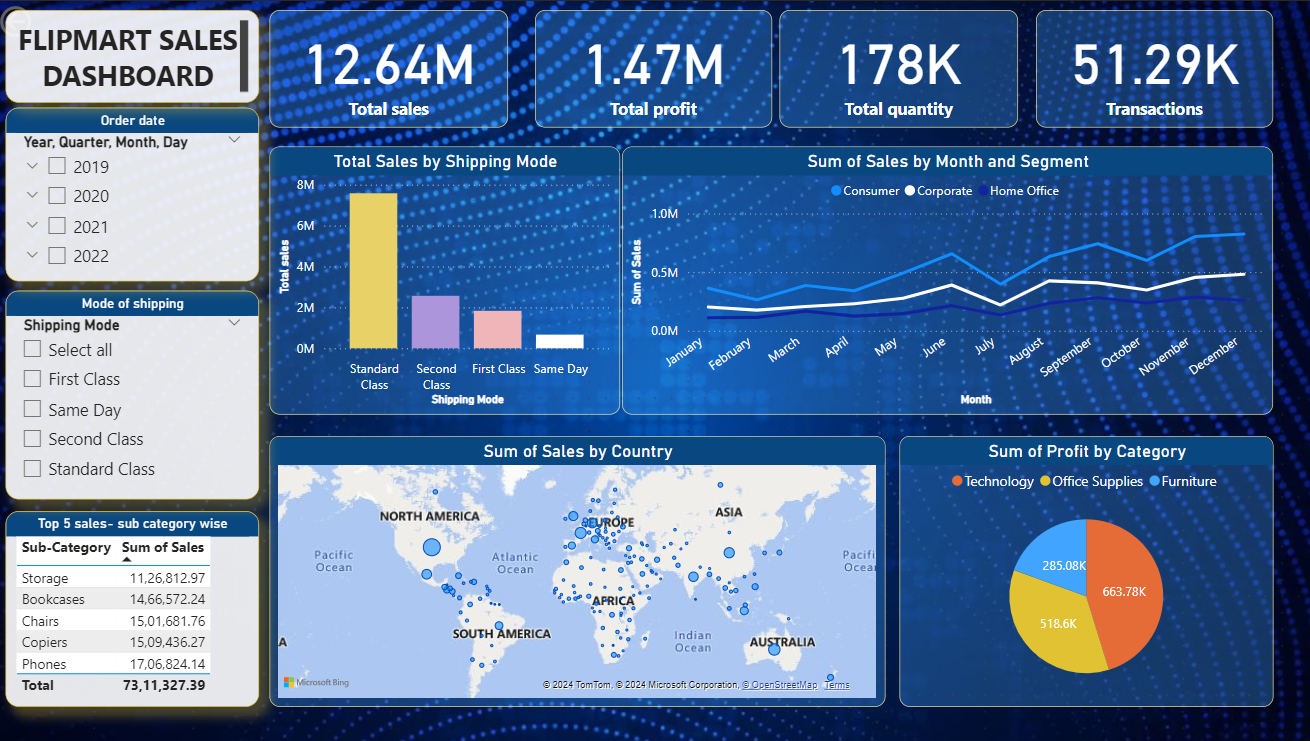

The page's visual inventory and layout, read from the dashboard file:
{"tool":"powerbi","page":{"name":"Page 1","canvas":[1280,720],"ordinal":0},"visuals":[{"type":"card","fields":{"Values":["Sum(Sales.Sales)"]},"box":[265.7,8.6,231.4,114.3],"z":0},{"type":"card","fields":{"Values":["Sum(Sales.Profit)"]},"box":[524.3,8.6,230,114.3],"z":1000},{"type":"card","fields":{"Values":["Sum(Sales.Quantity)"]},"box":[761.4,8.6,231.4,114.3],"z":2000},{"type":"card","fields":{"Values":["CountNonNull(Sales.Order ID)"]},"box":[1010,8.6,230,114.3],"z":3000},{"type":"clusteredColumnChart","title":"Total Sales by Shipping Mode","fields":{"Y":["Sum(Sales.Sales)"],"Category":["Sales.Shipping Mode"]},"box":[265.7,141.4,340,260],"z":4000},{"type":"pieChart","fields":{"Category":["Sales.Category"],"Y":["Sum(Sales.Profit)"]},"box":[877.1,421.4,362.9,262.9],"z":5000},{"type":"lineChart","fields":{"Y":["Sum(Sales.Sales)"],"Category":["Sales.Order Date.Variation.Date Hierarchy.Month"],"Series":["Sales.Segment"]},"box":[608.6,141.4,631.4,260],"z":6000},{"type":"map","fields":{"Size":["Sum(Sales.Sales)"],"Category":["Sales.Country"]},"box":[265.7,421.4,597.1,262.9],"z":7000},{"type":"tableEx","title":"Top 5 sales- sub category wise","fields":{"Values":["Sales.Sub-Category","Sum(Sales.Sales)"]},"box":[10,494.3,245.7,190],"z":8000},{"type":"actionButton","box":[0,0,100,40],"z":9000},{"type":"slicer","title":"Mode of shipping","fields":{"Values":["Sales.Shipping Mode"]},"box":[10,281.4,245.7,202.9],"z":10000},{"type":"slicer","title":"Order date","fields":{"Values":["Sales.Order Date.Variation.Date Hierarchy.Year","Sales.Order Date.Variation.Date Hierarchy.Quarter","Sales.Order Date.Variation.Date Hierarchy.Month","Sales.Order Date.Variation.Date Hierarchy.Day"]},"box":[10,102.9,245.7,168.6],"z":10001},{"type":"textbox","box":[10,8.6,245.7,90],"z":10002}]}

Visuals, with their boxes in screenshot pixels (x1, y1, x2, y2), scaled from the page's 1280x720 canvas onto the 1310x741 screenshot:
card - Sum(Sales.Sales): BBox(272, 9, 509, 126)
card - Sum(Sales.Profit): BBox(537, 9, 772, 126)
card - Sum(Sales.Quantity): BBox(779, 9, 1016, 126)
card - CountNonNull(Sales.Order ID): BBox(1034, 9, 1269, 126)
"Total Sales by Shipping Mode" clusteredColumnChart: BBox(272, 146, 620, 413)
pieChart - Sales.Category x Sum(Sales.Profit): BBox(898, 434, 1269, 704)
lineChart - Sum(Sales.Sales) x Sales.Order Date.Variation.Date Hierarchy.Month: BBox(623, 146, 1269, 413)
map - Sum(Sales.Sales) x Sales.Country: BBox(272, 434, 883, 704)
"Top 5 sales- sub category wise" tableEx: BBox(10, 509, 262, 704)
actionButton: BBox(0, 0, 102, 41)
"Mode of shipping" slicer: BBox(10, 290, 262, 498)
"Order date" slicer: BBox(10, 106, 262, 279)
textbox: BBox(10, 9, 262, 101)
